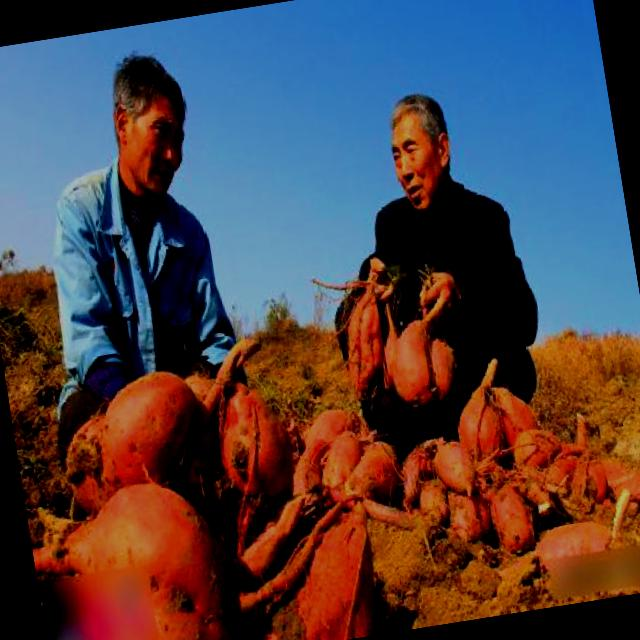Person: (6, 31, 292, 498), (308, 61, 558, 502)
